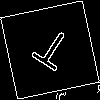T: (25, 25, 76, 80)
